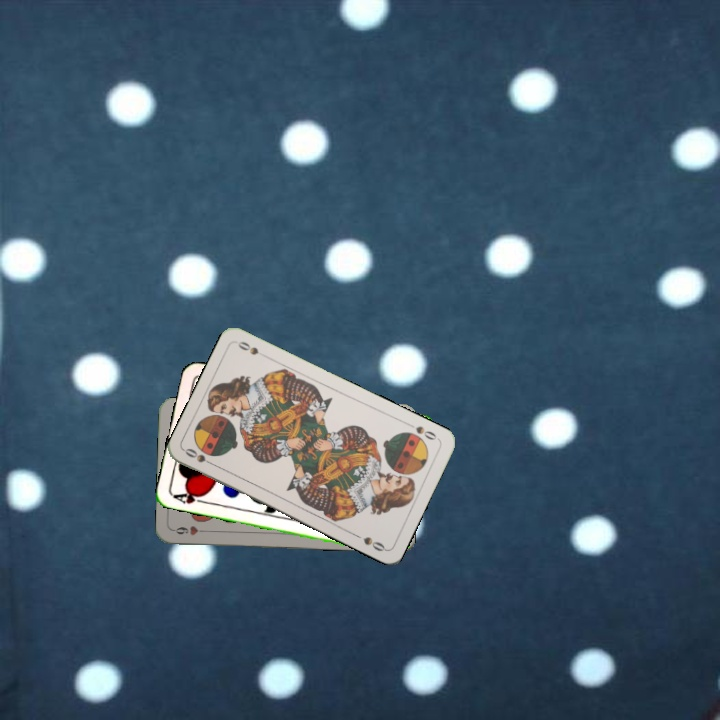H9: (170, 522, 210, 538)
HA: (170, 487, 210, 507)
SO: (181, 444, 219, 469), (403, 419, 442, 443)
